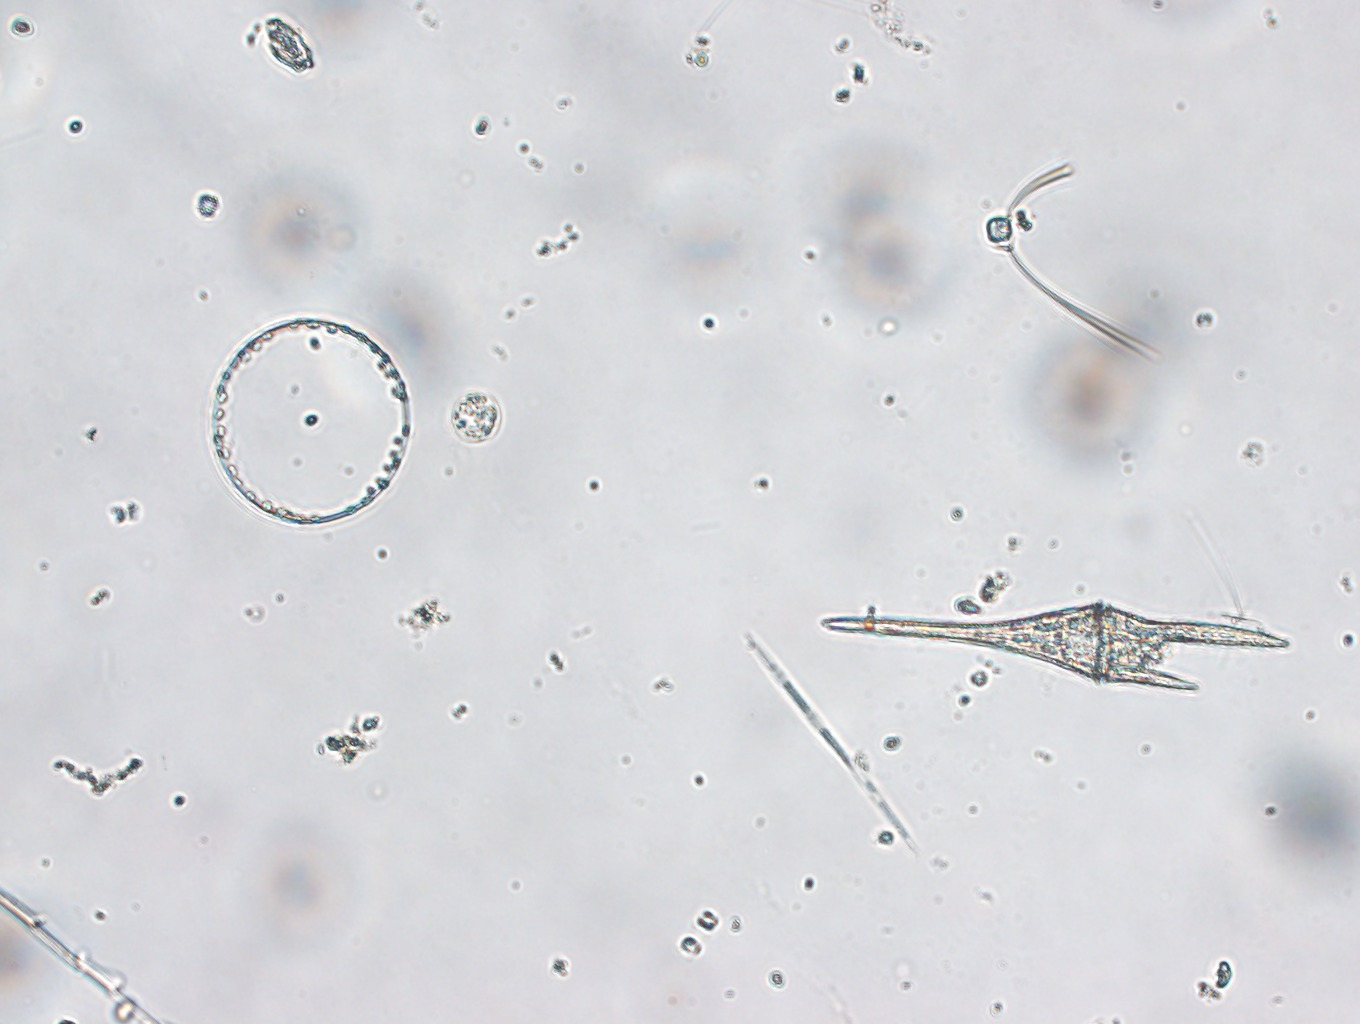ceratium furca: (820, 601, 1290, 694)
chaetoceros: (980, 160, 1164, 365)
coscinodiscus: (209, 317, 411, 528)
